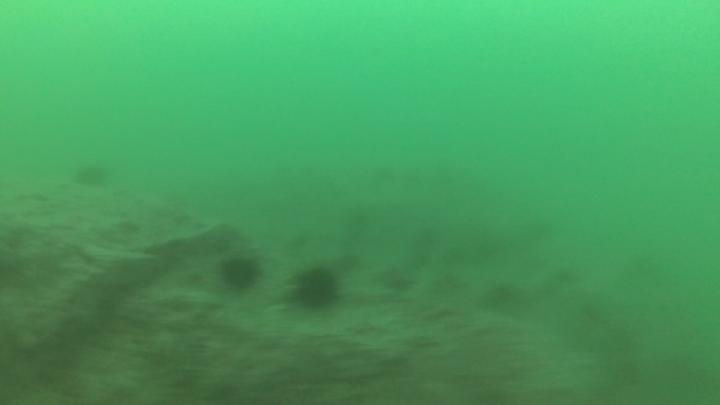echinus: (289, 263, 342, 313), (217, 252, 263, 293), (72, 159, 112, 191)
starfish: (375, 263, 419, 296)
